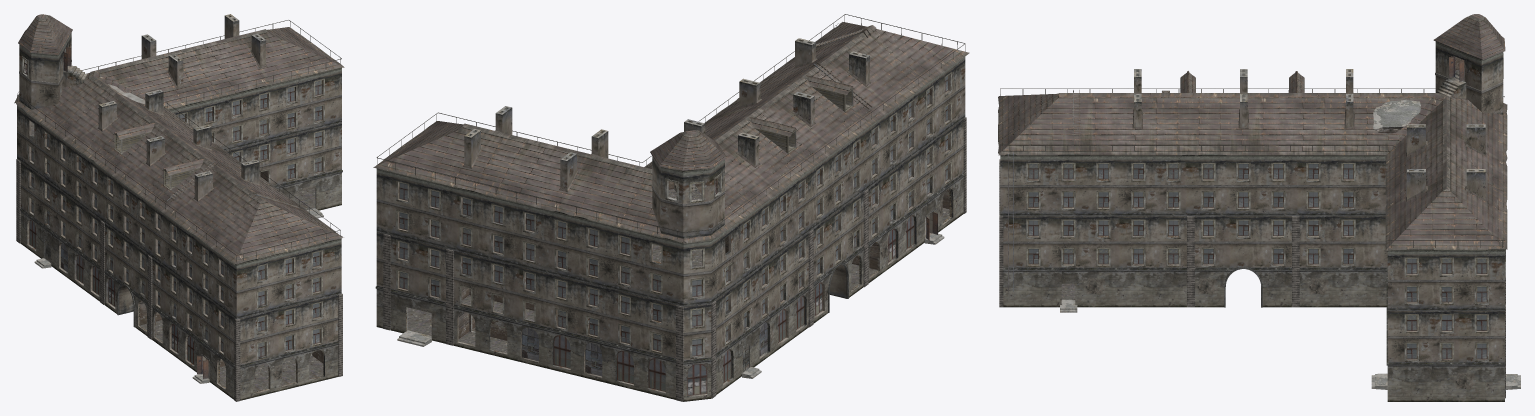
The model's file is Building_City_03_4LOD2.FBX.
3 views of the same model, side by side, from view 1: azimuth 30°, elevation 25°; view 2: azimuth 150°, elevation 25°; view 3: azimuth 270°, elevation 25° (orthographic). The views are drawn at different scales.
Parts seen in each view (by area): view 1: Building_City_03_4_LOD2, Building_City_03_4Roof_LOD2, Building_City_03_4Frame_LOD2, Building_City_03_4Tube_LOD2; view 2: Building_City_03_4_LOD2, Building_City_03_4Roof_LOD2, Building_City_03_4Frame_LOD2, Building_City_03_4Tube_LOD2; view 3: Building_City_03_4_LOD2, Building_City_03_4Roof_LOD2, Building_City_03_4Frame_LOD2, Building_City_03_4Tube_LOD2.
Part boxes in pixels (left/top/right/bottom): Building_City_03_4_LOD2: left=16, top=14, right=342, bottom=401; Building_City_03_4Roof_LOD2: left=14, top=20, right=344, bottom=264; Building_City_03_4Frame_LOD2: left=28, top=78, right=324, bottom=360; Building_City_03_4Tube_LOD2: left=98, top=14, right=265, bottom=199; Building_City_03_4_LOD2: left=375, top=57, right=966, bottom=401; Building_City_03_4Roof_LOD2: left=373, top=14, right=969, bottom=243; Building_City_03_4Frame_LOD2: left=396, top=71, right=951, bottom=359; Building_City_03_4Tube_LOD2: left=464, top=38, right=869, bottom=189; Building_City_03_4_LOD2: left=999, top=14, right=1520, bottom=401; Building_City_03_4Roof_LOD2: left=998, top=71, right=1507, bottom=250; Building_City_03_4Frame_LOD2: left=1026, top=162, right=1488, bottom=361; Building_City_03_4Tube_LOD2: left=1134, top=69, right=1485, bottom=199.
Bounding box in the file's own units: 3703 × 5201 × 2719.
Materials: 7 (7 with a texture image).
